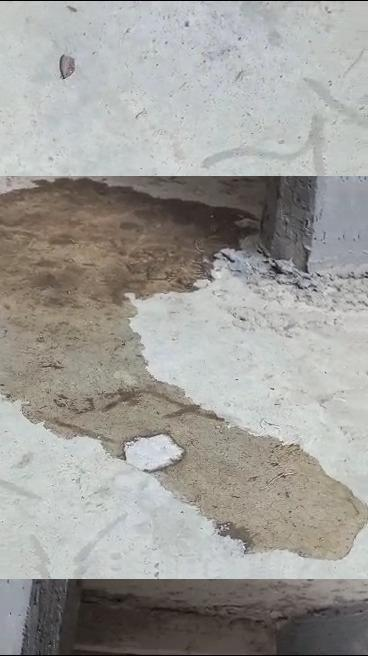water accumulation: (0, 176, 368, 565)
